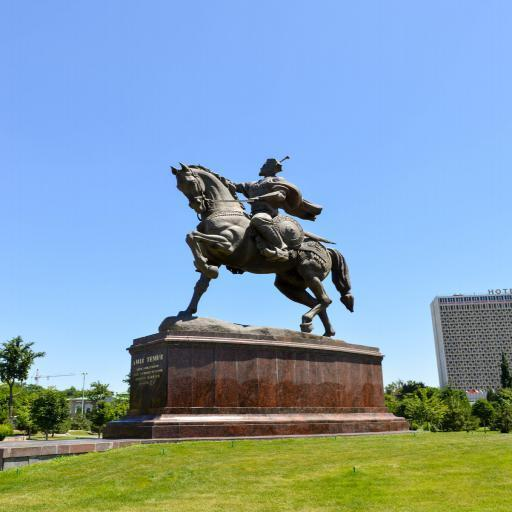horse: (168, 161, 356, 319)
